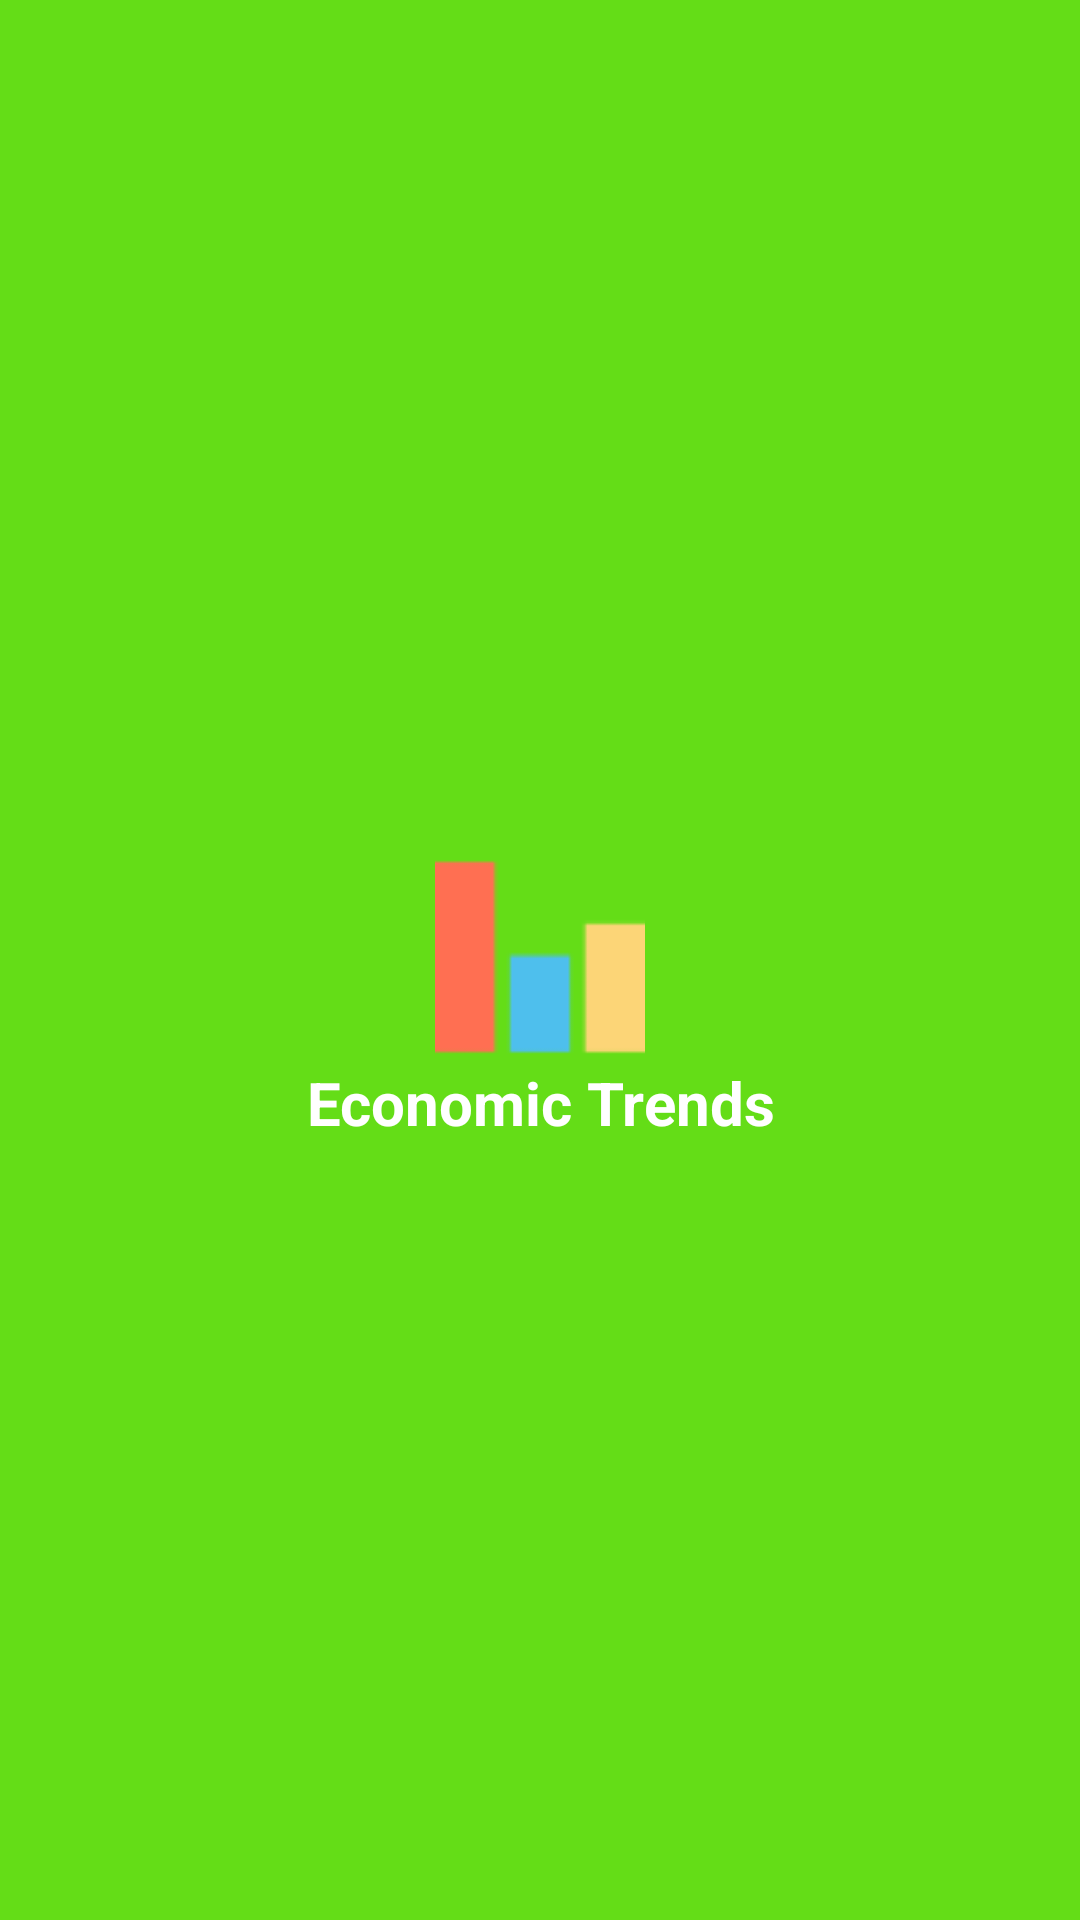

Point at icon controls on the screen. Image size 1080 x 1920, points as point (x, y).
graphs: point (540, 957)
